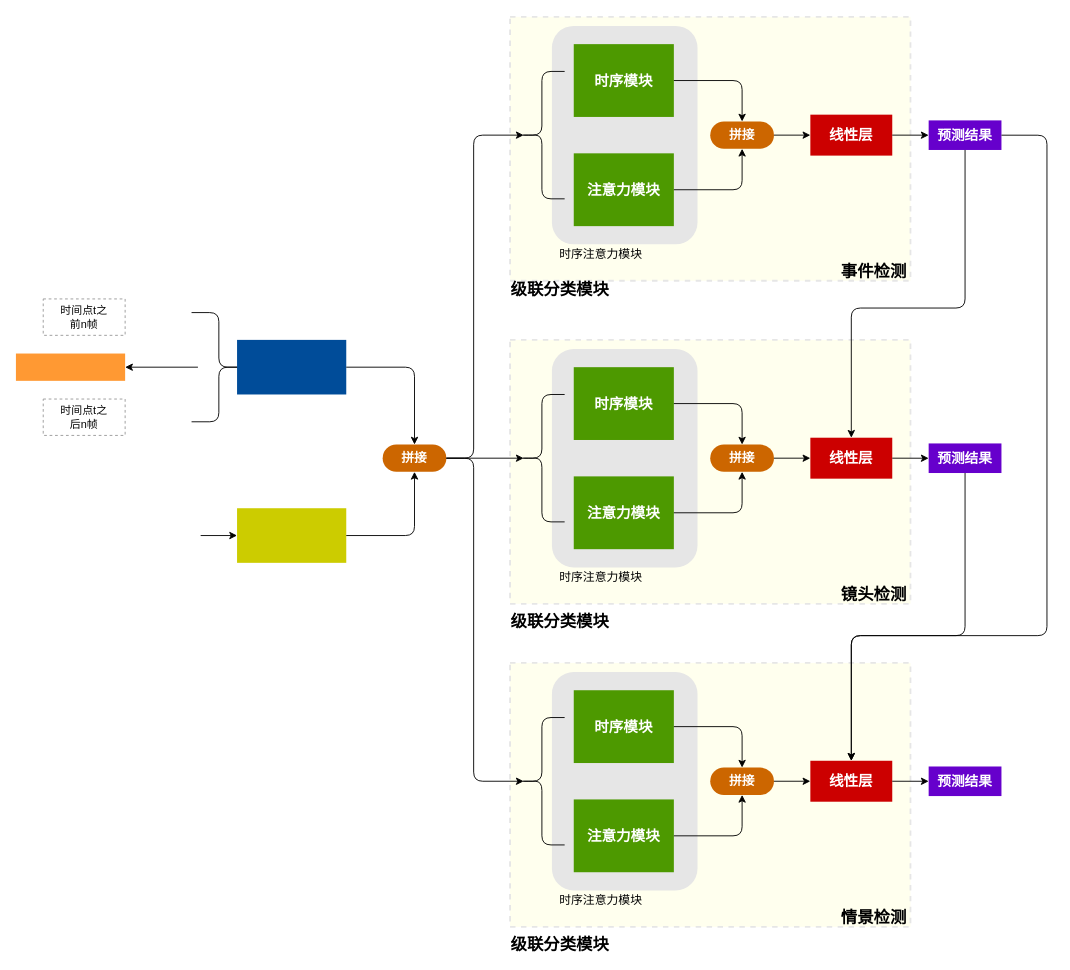
The diagram is 1070 pixels wide and 970 high, and some of its shapes have lost their labels. The centre of each missing label's shape, as x and y in pixels:
"当前时间点t" goes at point (70, 366).
"视觉特征提取 模块" goes at point (291, 366).
"音频特征提取 模块" goes at point (291, 535).
